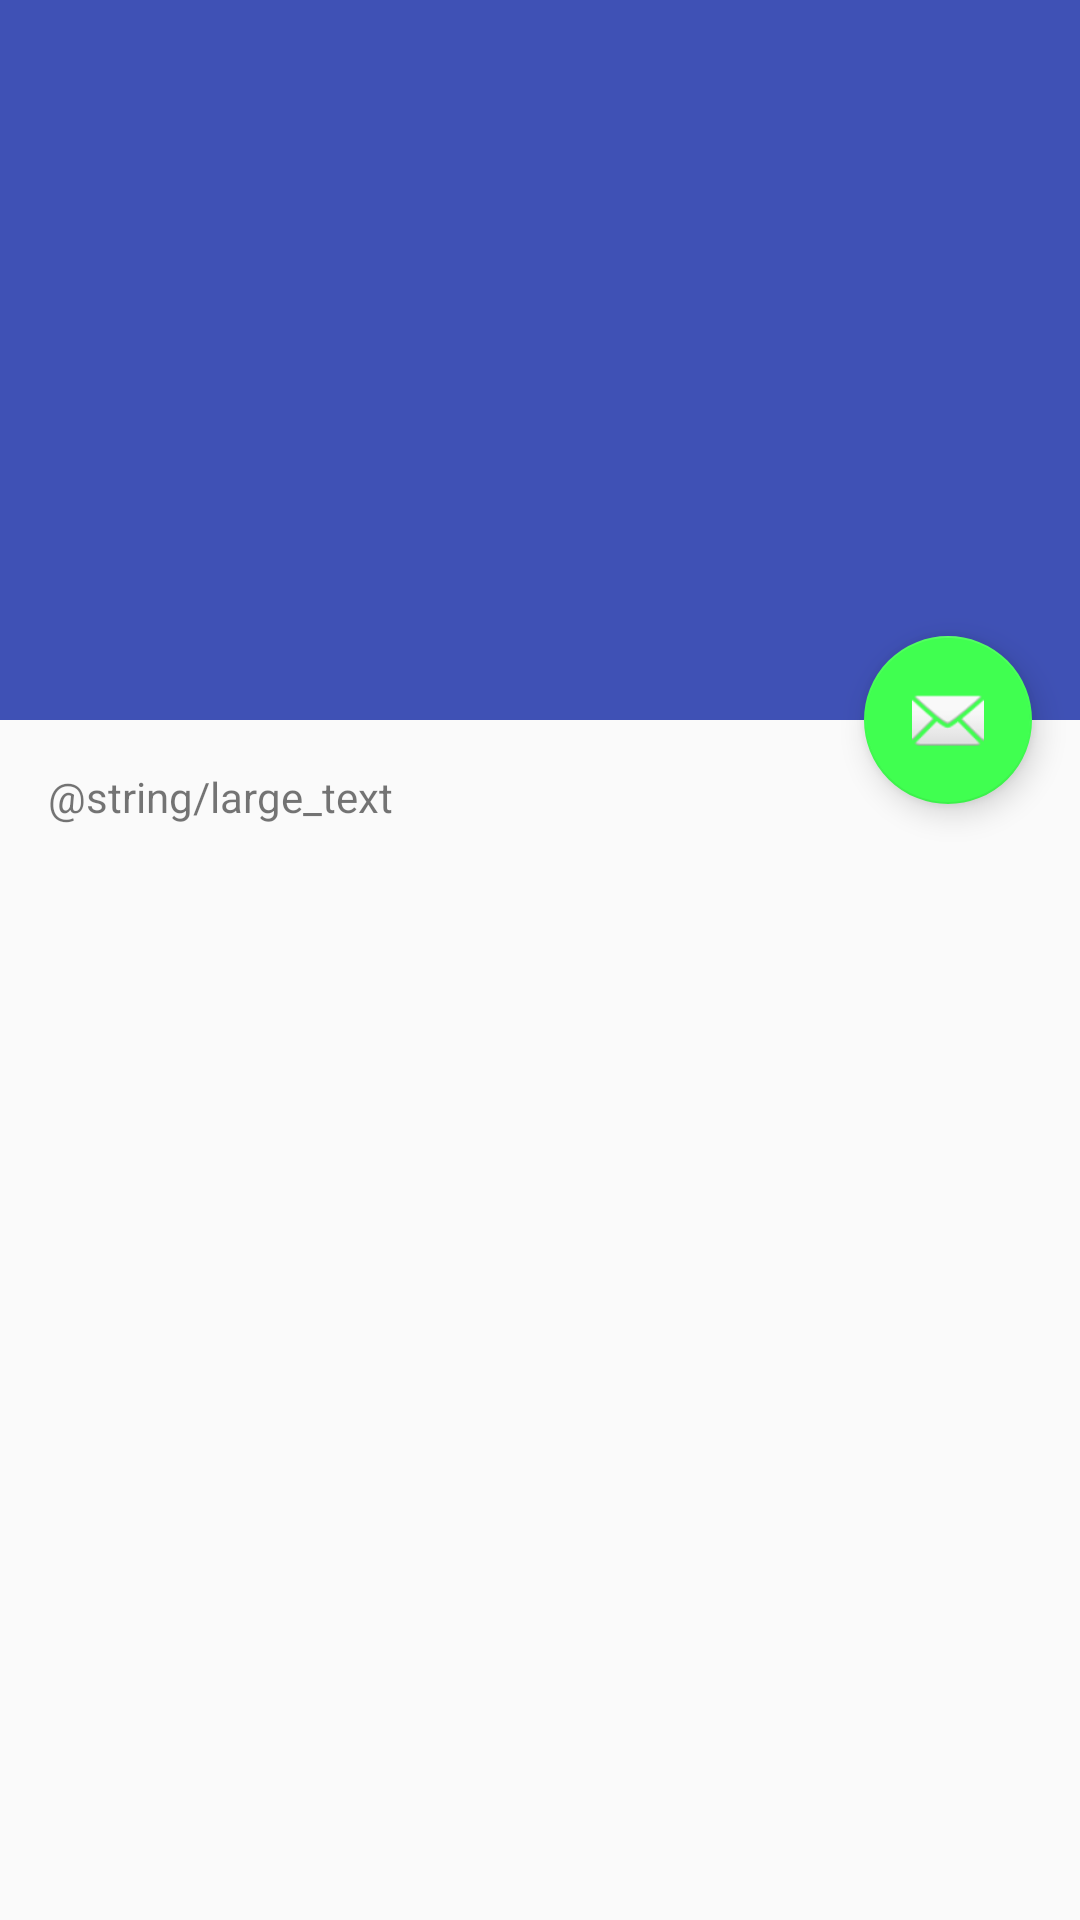

Screen size 1080 x 1920. Icon name, then its center in pixels as (x,y):
email: (948,720)
